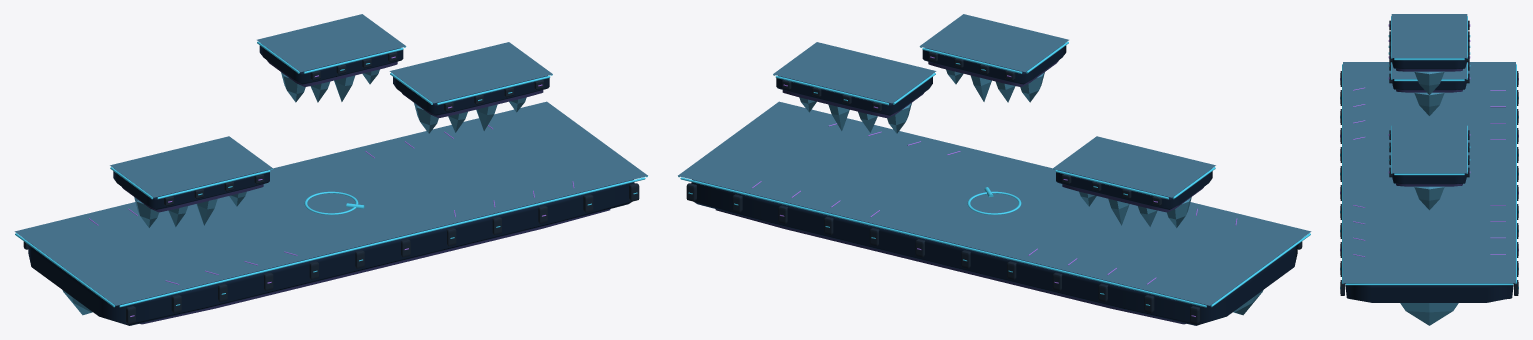
The model's file is aurora-glacier.obj.
3 renders of one model, left to right at view 1: azimuth 30°, elevation 25°; view 2: azimuth 150°, elevation 25°; view 3: azimuth 270°, elevation 25°, orthographic. The views are drawn at different scales.
Visible parts, largest first — view 1: arena-deck_part_144, beveled-plate_part_0, arena-deck_part_146, arena-deck_part_145, arena-deck_part_147, cylinder_part_110, beveled-plate_part_68, beveled-plate_part_50, beveled-plate_part_86, beveled-plate_part_1, beveled-plate_part_51, beveled-plate_part_69; view 2: arena-deck_part_144, beveled-plate_part_0, arena-deck_part_146, arena-deck_part_145, arena-deck_part_147, cylinder_part_108, beveled-plate_part_68, beveled-plate_part_50, beveled-plate_part_86, beveled-plate_part_1, beveled-plate_part_51, beveled-plate_part_69; view 3: arena-deck_part_144, arena-deck_part_146, arena-deck_part_147, beveled-plate_part_0, faceted-crystal_part_158, beveled-plate_part_68, beveled-plate_part_86, beveled-plate_part_50, cylinder_part_111, faceted-crystal_part_166, faceted-crystal_part_170, faceted-crystal_part_162 (+9 smaller).
Boxes of the visible parts, x1=… form: arena-deck_part_144: x1=14, y1=101, x2=647, y2=305; beveled-plate_part_0: x1=28, y1=179, x2=634, y2=325; arena-deck_part_146: x1=389, y1=42, x2=552, y2=103; arena-deck_part_145: x1=110, y1=136, x2=272, y2=197; arena-deck_part_147: x1=257, y1=14, x2=406, y2=72; cylinder_part_110: x1=119, y1=177, x2=645, y2=307; beveled-plate_part_68: x1=393, y1=75, x2=549, y2=115; beveled-plate_part_50: x1=113, y1=170, x2=269, y2=209; beveled-plate_part_86: x1=259, y1=44, x2=403, y2=84; beveled-plate_part_1: x1=140, y1=209, x2=610, y2=324; beveled-plate_part_51: x1=122, y1=184, x2=263, y2=212; beveled-plate_part_69: x1=401, y1=90, x2=543, y2=117; arena-deck_part_144: x1=678, y1=101, x2=1311, y2=305; beveled-plate_part_0: x1=691, y1=179, x2=1297, y2=325; arena-deck_part_146: x1=773, y1=42, x2=936, y2=103; arena-deck_part_145: x1=1053, y1=136, x2=1215, y2=197; arena-deck_part_147: x1=919, y1=14, x2=1068, y2=72; cylinder_part_108: x1=680, y1=177, x2=1206, y2=307; beveled-plate_part_68: x1=776, y1=75, x2=932, y2=115; beveled-plate_part_50: x1=1056, y1=170, x2=1212, y2=209; beveled-plate_part_86: x1=922, y1=44, x2=1066, y2=84; beveled-plate_part_1: x1=715, y1=209, x2=1185, y2=324; beveled-plate_part_51: x1=1062, y1=184, x2=1203, y2=212; beveled-plate_part_69: x1=782, y1=90, x2=924, y2=117; arena-deck_part_144: x1=1343, y1=62, x2=1515, y2=283; arena-deck_part_146: x1=1391, y1=123, x2=1467, y2=173; arena-deck_part_147: x1=1391, y1=14, x2=1467, y2=57; beveled-plate_part_0: x1=1345, y1=283, x2=1513, y2=302; faceted-crystal_part_158: x1=1400, y1=303, x2=1458, y2=325; beveled-plate_part_68: x1=1392, y1=173, x2=1466, y2=184; beveled-plate_part_86: x1=1392, y1=58, x2=1466, y2=69; beveled-plate_part_50: x1=1392, y1=79, x2=1466, y2=90; cylinder_part_111: x1=1345, y1=283, x2=1513, y2=285; faceted-crystal_part_166: x1=1414, y1=186, x2=1444, y2=210; faceted-crystal_part_170: x1=1414, y1=71, x2=1444, y2=94; faceted-crystal_part_162: x1=1414, y1=92, x2=1444, y2=115.
Bounding box in the file's own units: 23.69 × 9.43 × 8.07.
